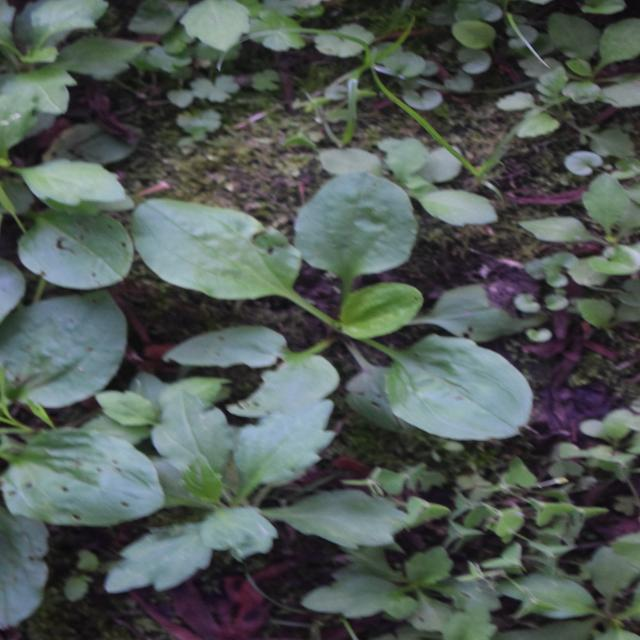plantain: (208, 165, 461, 513)
